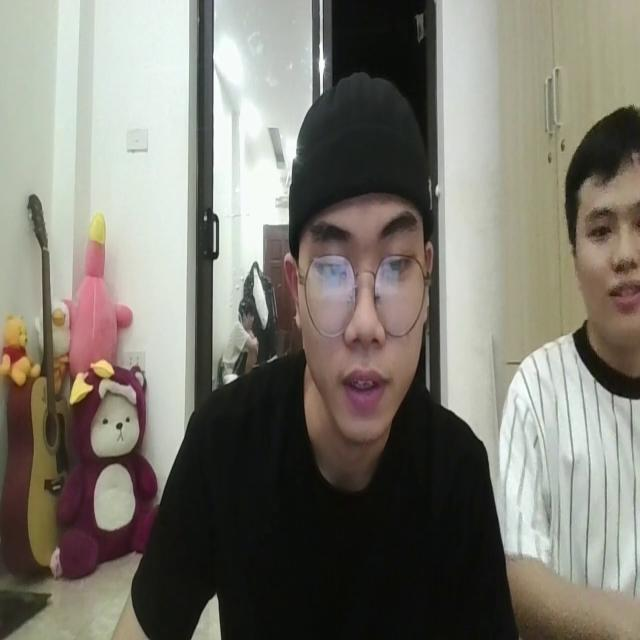extra_person: (497, 98, 640, 640)
student: (114, 68, 510, 640)
